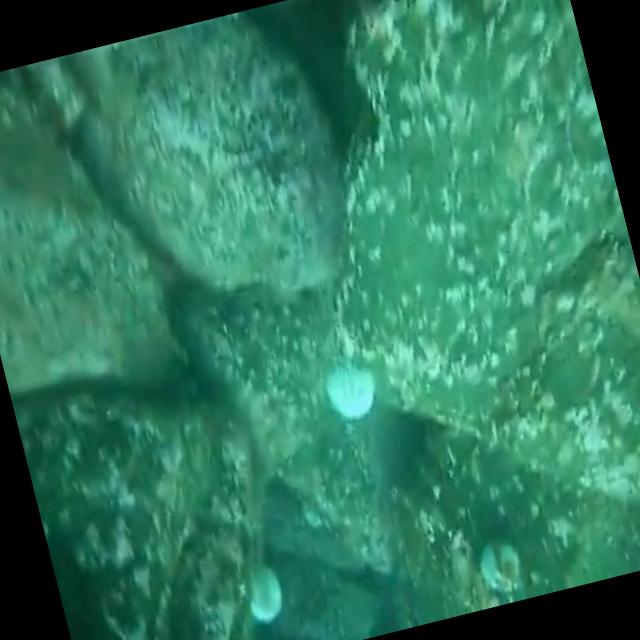Deniz Kestanesi: (314, 349, 386, 429), (230, 560, 288, 630)
